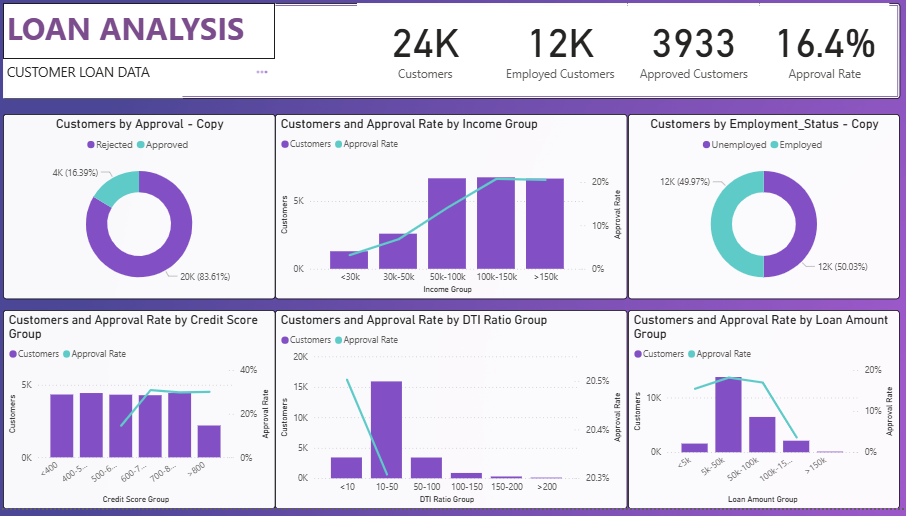

What the dashboard file says about the page in this screenshot:
{"tool":"powerbi","page":{"name":"Page 1","canvas":[1280,720],"ordinal":0},"visuals":[{"type":"shape","box":[37.2,24.8,1234.6,132.1],"z":0},{"type":"card","fields":{"Values":["loan_data.Employed Customers"]},"box":[712.2,25.2,184.8,117.6],"z":1000},{"type":"card","fields":{"Values":["loan_data.Approved Customers"]},"box":[897,25.2,181.4,117.6],"z":2000},{"type":"card","fields":{"Values":["loan_data.Customers"]},"box":[524.1,25.2,188.1,117.6],"z":3000},{"type":"card","fields":{"Values":["loan_data.Approval Rate"]},"box":[1078.4,25.2,178.1,117.6],"z":4000},{"type":"donutChart","fields":{"Y":["loan_data.Customers"],"Category":["loan_data.Approval - Copy","loan_data.Approval"]},"box":[37,178.1,374.6,255.3],"z":5000},{"type":"donutChart","fields":{"Y":["loan_data.Customers"],"Category":["loan_data.Employment_Status - Copy","loan_data.Employment_Status"]},"box":[897,178.1,374,255.3],"z":6000},{"type":"lineClusteredColumnComboChart","fields":{"Y":["loan_data.Customers"],"Y2":["loan_data.Approval Rate"],"Category":["Income group.Income Group"]},"box":[411.5,178.1,485,255.3],"z":7000},{"type":"lineClusteredColumnComboChart","fields":{"Y":["loan_data.Customers"],"Y2":["loan_data.Approval Rate"],"Category":["Credit Score Group.Credit Score Group"]},"box":[37,446.8,374.6,273.8],"z":8000},{"type":"lineClusteredColumnComboChart","fields":{"Y":["loan_data.Customers"],"Y2":["loan_data.Approval Rate"],"Category":["DTI Ratio Group.DTI Ratio Group"]},"box":[411.5,446.8,485.5,273.8],"z":9000},{"type":"lineClusteredColumnComboChart","fields":{"Y":["loan_data.Customers"],"Y2":["loan_data.Approval Rate"],"Category":["Loan Amount Group.Loan Amount Group"]},"box":[897,446.8,374,273.8],"z":10000},{"type":"textbox","box":[37,25.2,374.6,77.3],"z":11000},{"type":"textbox","box":[37,102.5,246.9,53.8],"z":12000}]}

Visuals, with their boxes in screenshot pixels (x1, y1, x2, y2), scaled from the page's 1280x720 canvas onto the 906x516 screenshot:
shape: l=26, t=18, r=900, b=112
card - loan_data.Employed Customers: l=504, t=18, r=635, b=102
card - loan_data.Approved Customers: l=635, t=18, r=763, b=102
card - loan_data.Customers: l=371, t=18, r=504, b=102
card - loan_data.Approval Rate: l=763, t=18, r=889, b=102
donutChart - loan_data.Customers x loan_data.Approval - Copy: l=26, t=128, r=291, b=311
donutChart - loan_data.Customers x loan_data.Employment_Status - Copy: l=635, t=128, r=900, b=311
lineClusteredColumnComboChart - loan_data.Customers x loan_data.Approval Rate: l=291, t=128, r=635, b=311
lineClusteredColumnComboChart - loan_data.Customers x loan_data.Approval Rate: l=26, t=320, r=291, b=515
lineClusteredColumnComboChart - loan_data.Customers x loan_data.Approval Rate: l=291, t=320, r=635, b=515
lineClusteredColumnComboChart - loan_data.Customers x loan_data.Approval Rate: l=635, t=320, r=900, b=515
textbox: l=26, t=18, r=291, b=73
textbox: l=26, t=73, r=201, b=112
